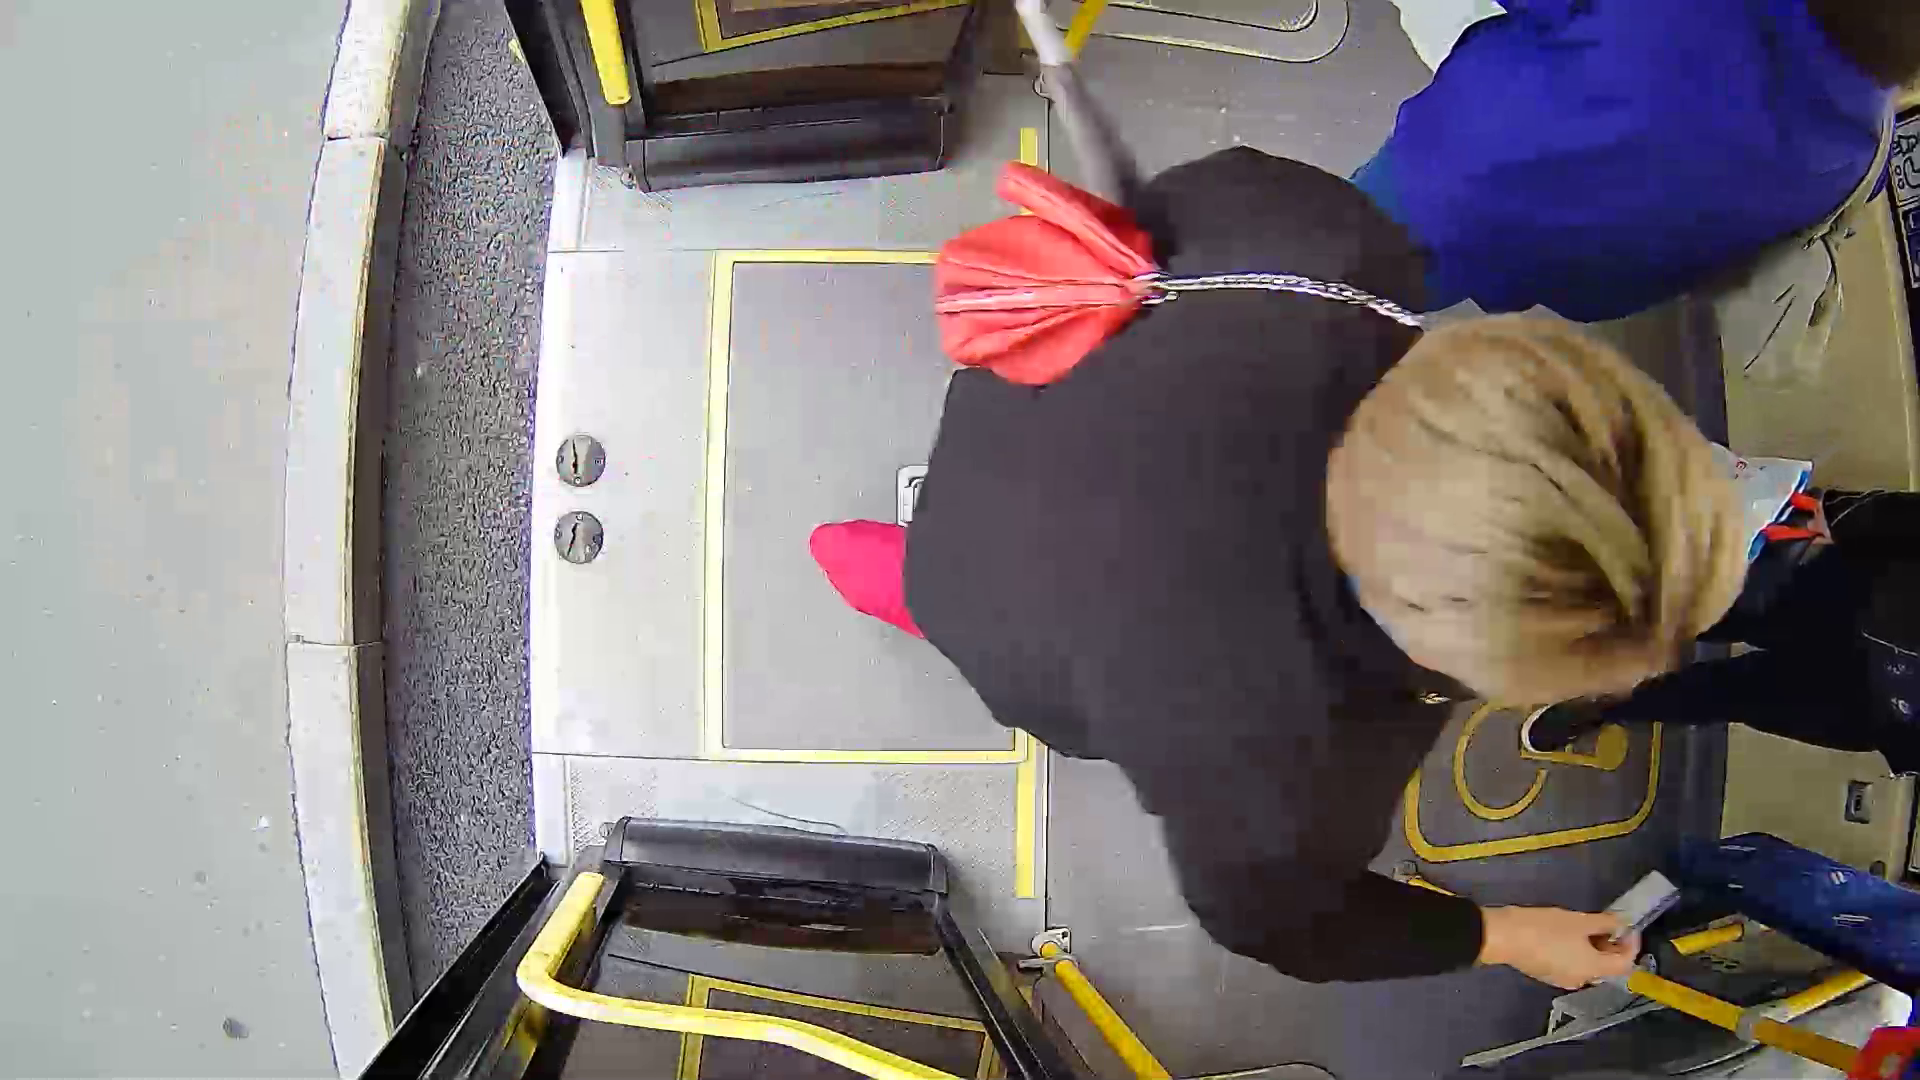person: (915, 128, 1827, 987)
